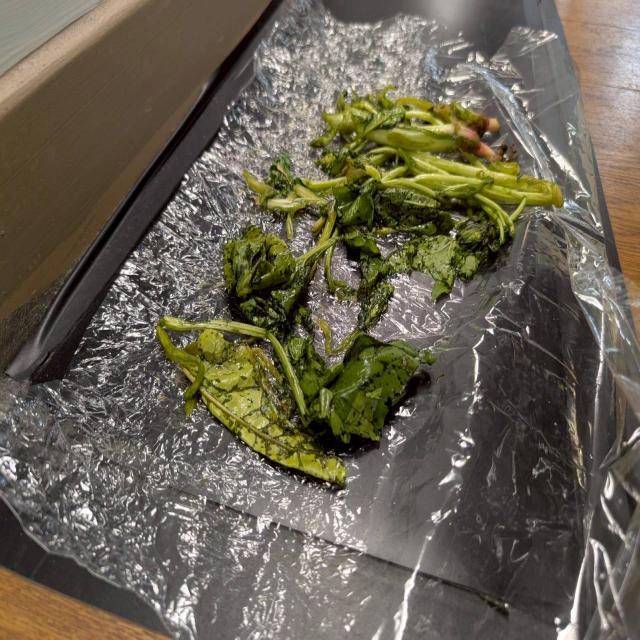rotten spinach: (164, 64, 574, 495), (272, 69, 574, 290), (218, 208, 416, 450)
